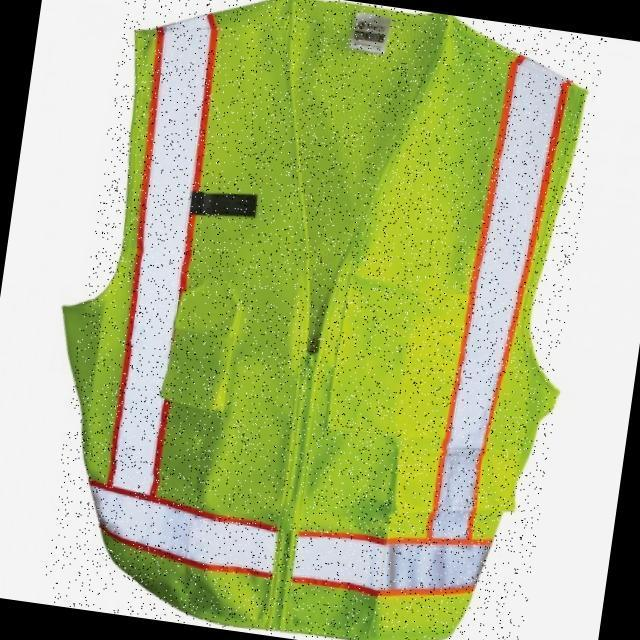vest: (41, 0, 607, 640)
